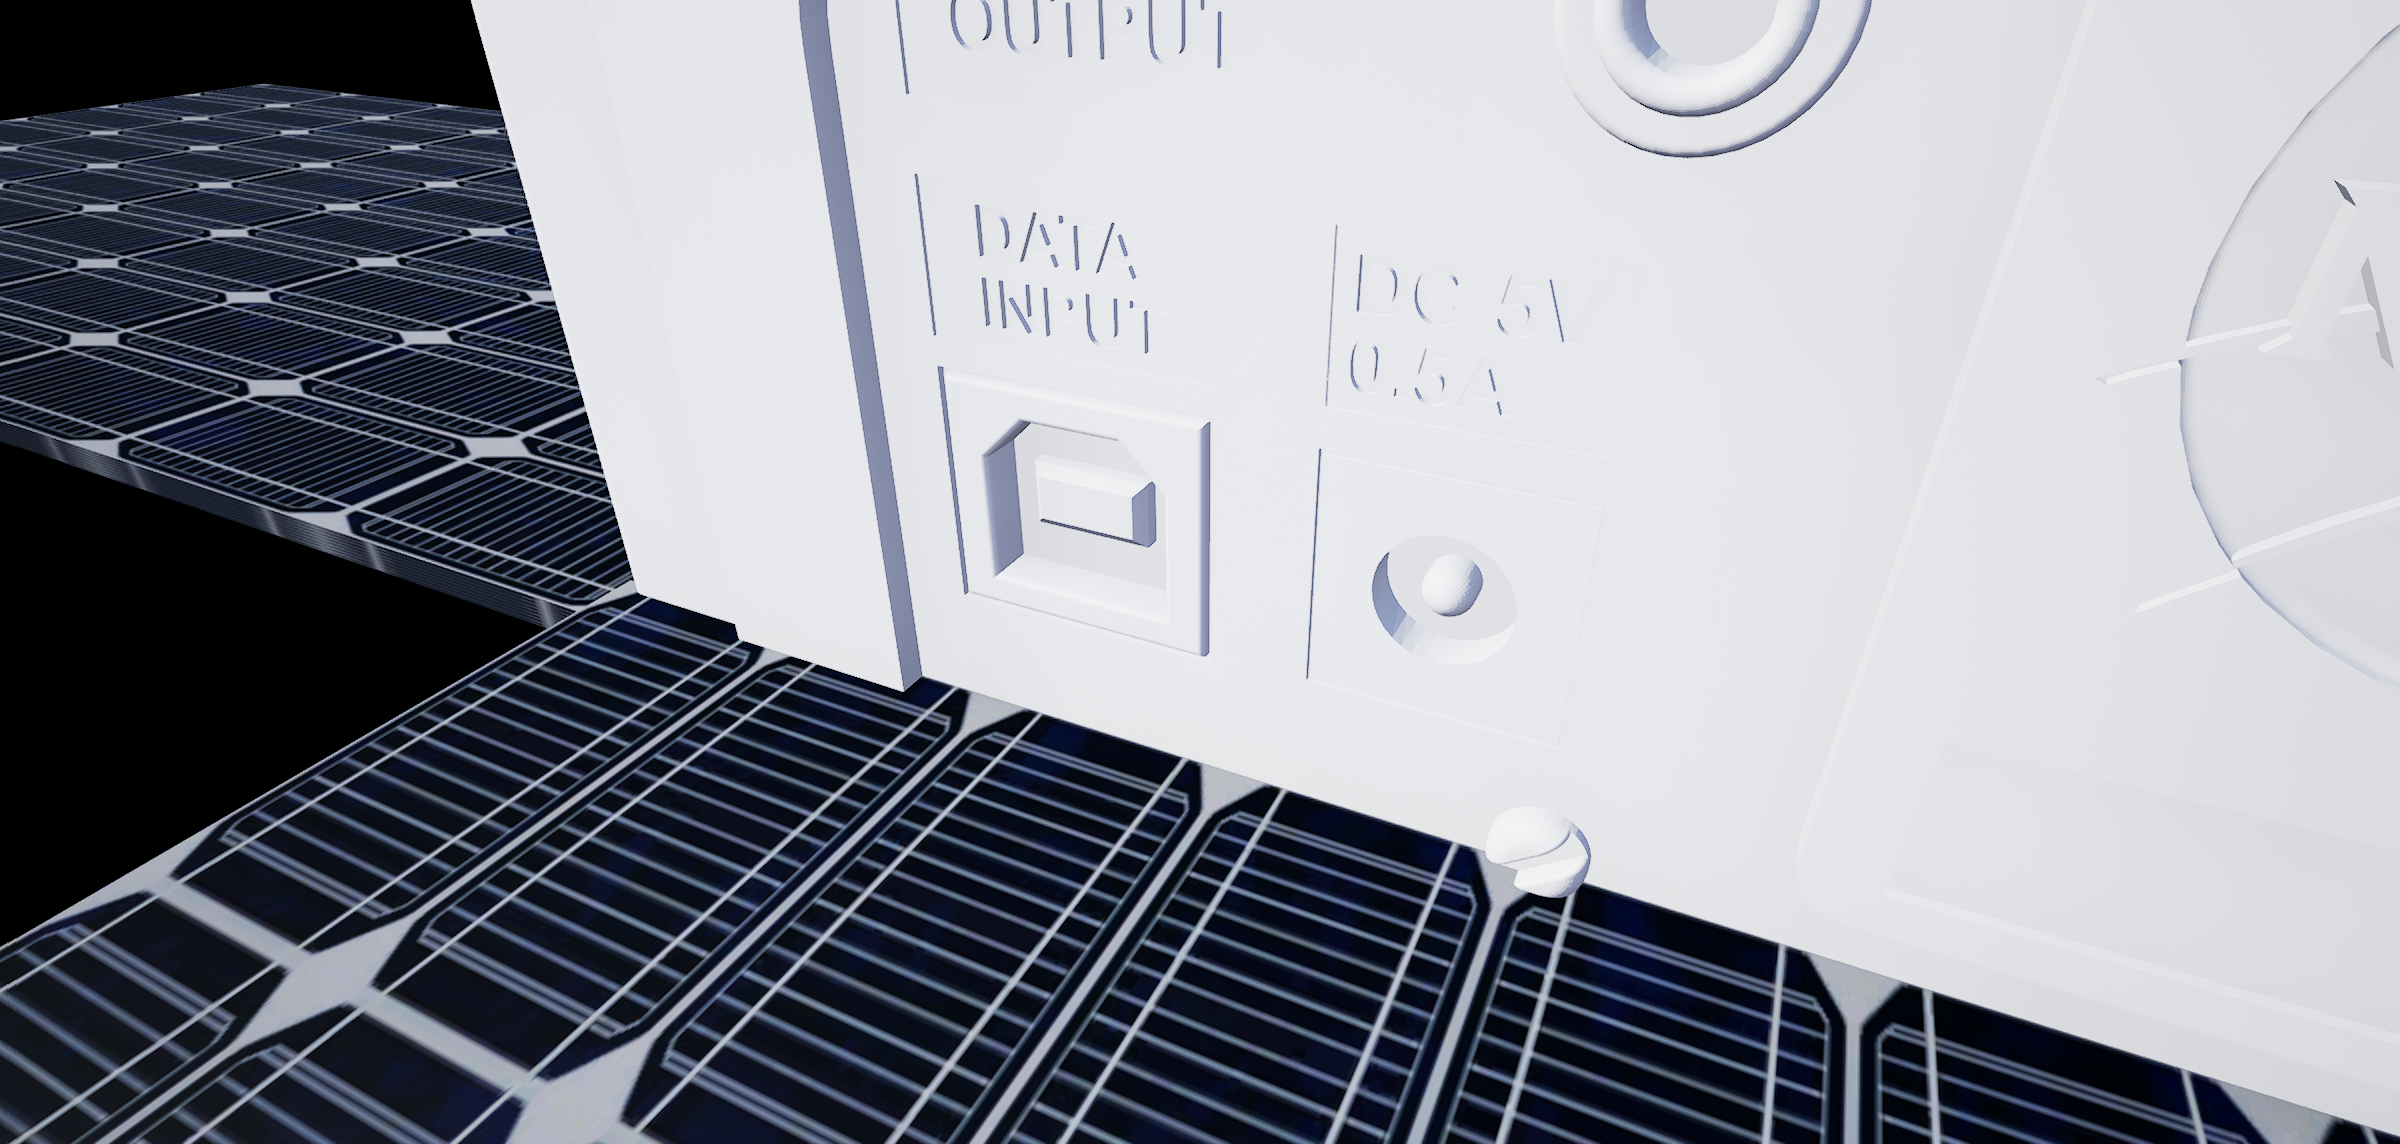aux: (1534, 2, 1918, 153)
dc: (1356, 515, 1538, 678)
usb: (975, 410, 1183, 626)
